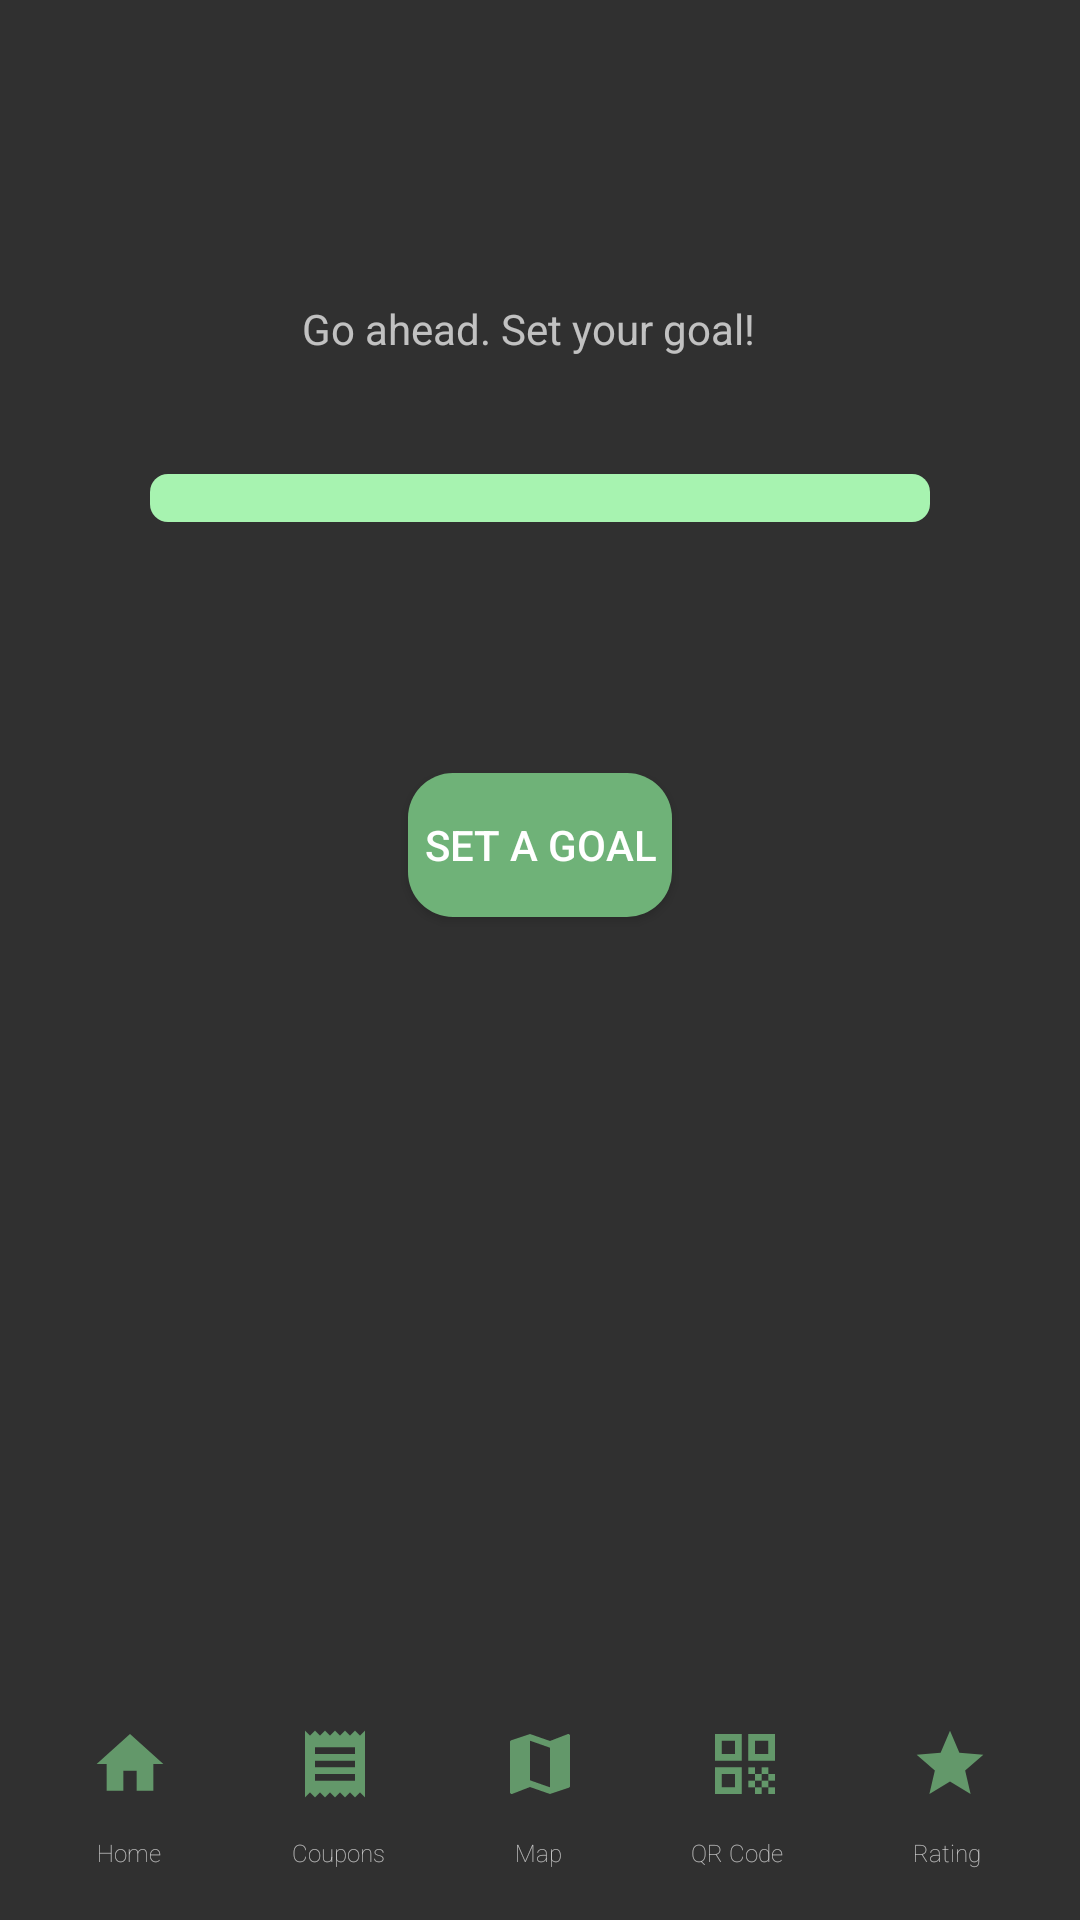

Icon bounding boxes for this 1080 × 1920 phone screenshot, format [x1,y1,x2,y2]:
discounts menu: [305,1731,365,1797]
map menu: [510,1734,570,1794]
qr menu: [715,1734,775,1794]
score menu: [917,1731,983,1794]
